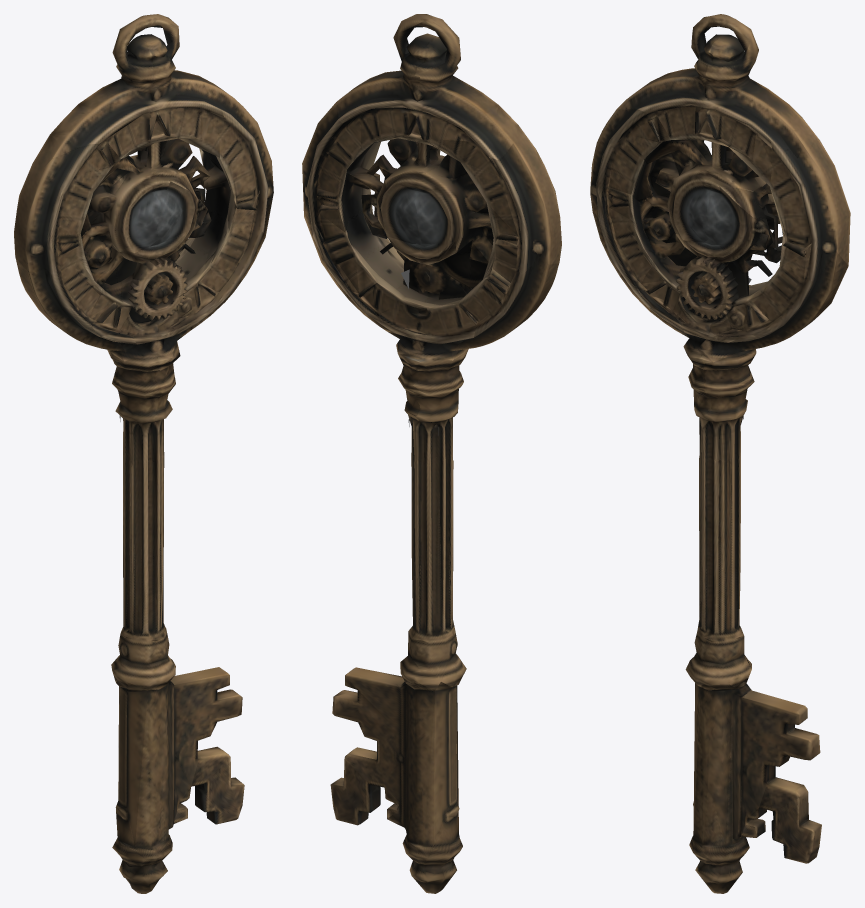
Rendered from hi3d-Chrono Key_2.glb.
The picture shows the model from 3 angles, left to right: view 1: azimuth 30°, elevation 25°; view 2: azimuth 150°, elevation 25°; view 3: azimuth 330°, elevation 25°; orthographic projection.
Visible parts, largest first — view 1: world; view 2: world; view 3: world.
Boxes of the visible parts, x1,y1,x2,y2 form: world: (14, 14, 273, 893); world: (302, 14, 561, 893); world: (590, 14, 850, 893).
Size of the model in its own units: 0.0591 by 0.2 by 0.0159.
Materials: 1 (1 with a texture image).
